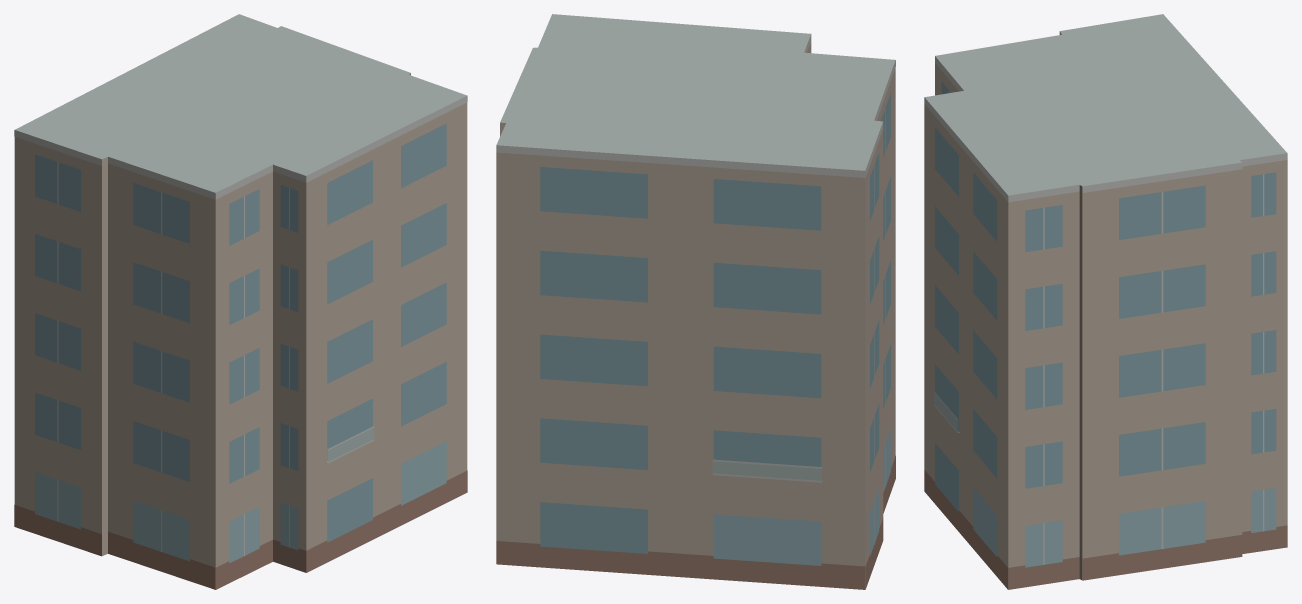
Rendered from survey-upis-32960377.glb.
The picture shows the model from 3 angles, left to right: view 1: azimuth 30°, elevation 25°; view 2: azimuth 150°, elevation 25°; view 3: azimuth 270°, elevation 25°; orthographic projection. The views are drawn at different scales.
Visible parts, largest first — view 1: survey-upis-32960377.tmp; view 2: survey-upis-32960377.tmp; view 3: survey-upis-32960377.tmp.
Boxes of the visible parts, x1,y1,x2,y2 form: survey-upis-32960377.tmp: [14, 14, 467, 589]; survey-upis-32960377.tmp: [496, 14, 895, 589]; survey-upis-32960377.tmp: [924, 14, 1287, 589].
Bounding box in the file's own units: 14.14 × 14.3 × 11.95.
